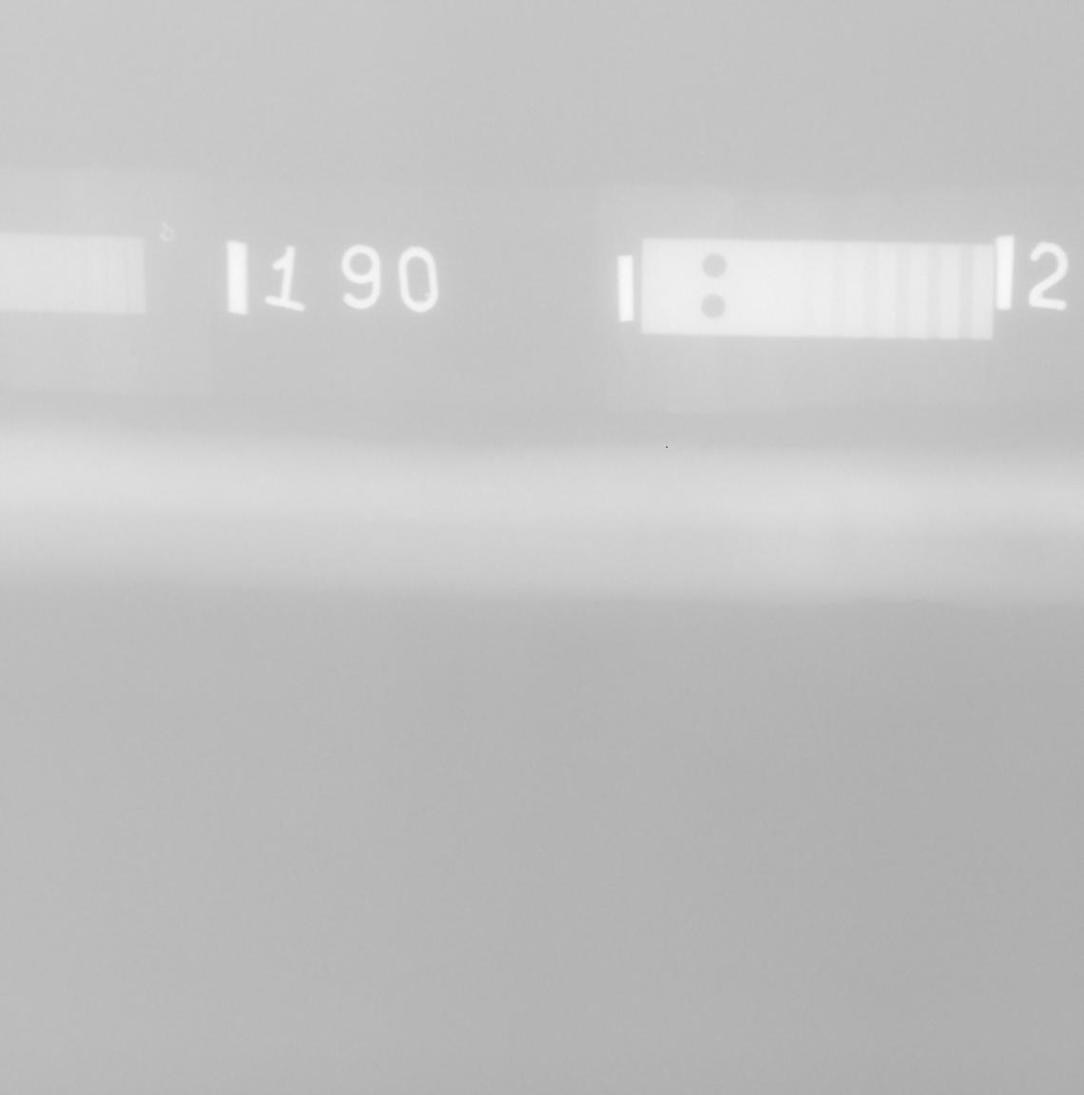Reference Standard 2: (641, 237, 994, 340)
